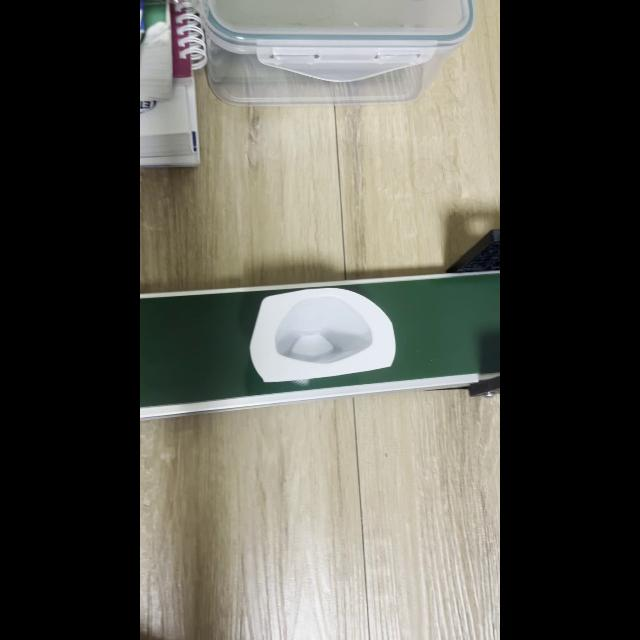clean: (249, 287, 396, 383)
